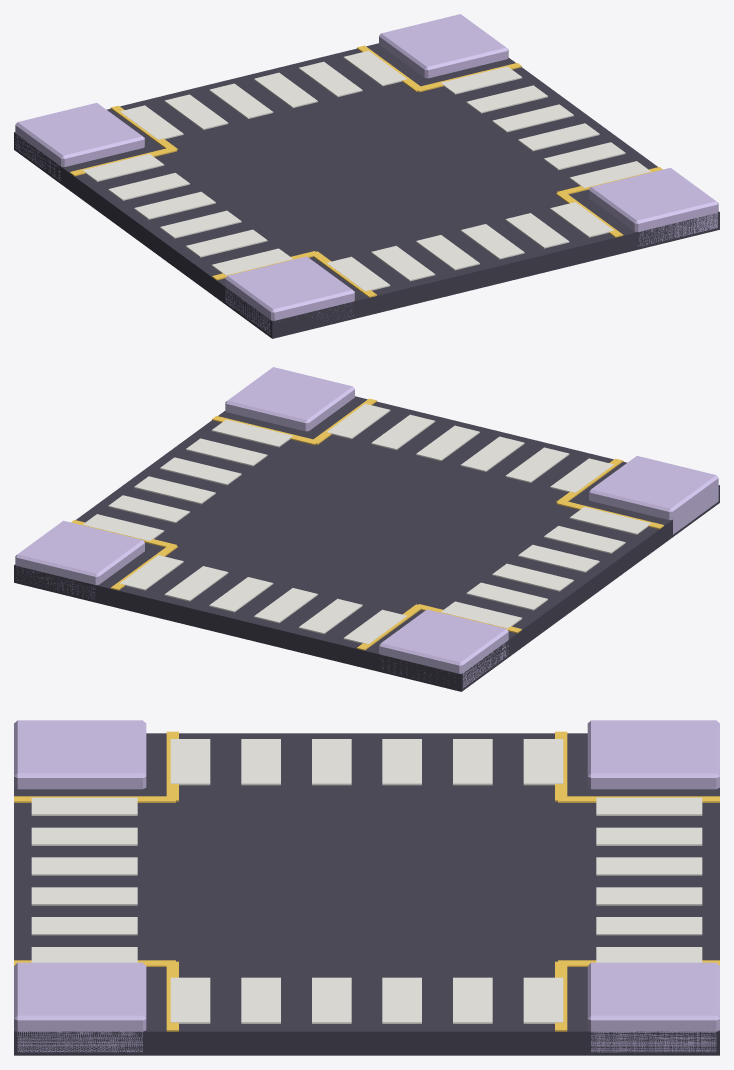
File: road_cross.glb
3 renders of one model, top to bottom at view 1: azimuth 30°, elevation 25°; view 2: azimuth 150°, elevation 25°; view 3: azimuth 270°, elevation 25°, orthographic. The views are drawn at different scales.
Parts seen in each view (by area): view 1: road_cross; view 2: road_cross; view 3: road_cross.
Boxes of the visible parts, bbox=[...] form: road_cross: bbox=[14, 14, 719, 338]; road_cross: bbox=[14, 367, 719, 691]; road_cross: bbox=[14, 720, 719, 1055].
Size of the model in its own units: 8 by 0.48 by 8.
